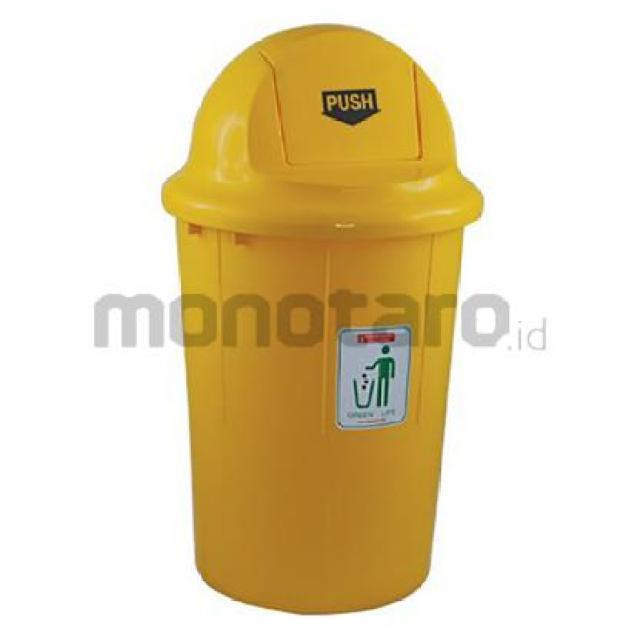garbage container: (133, 13, 501, 636)
